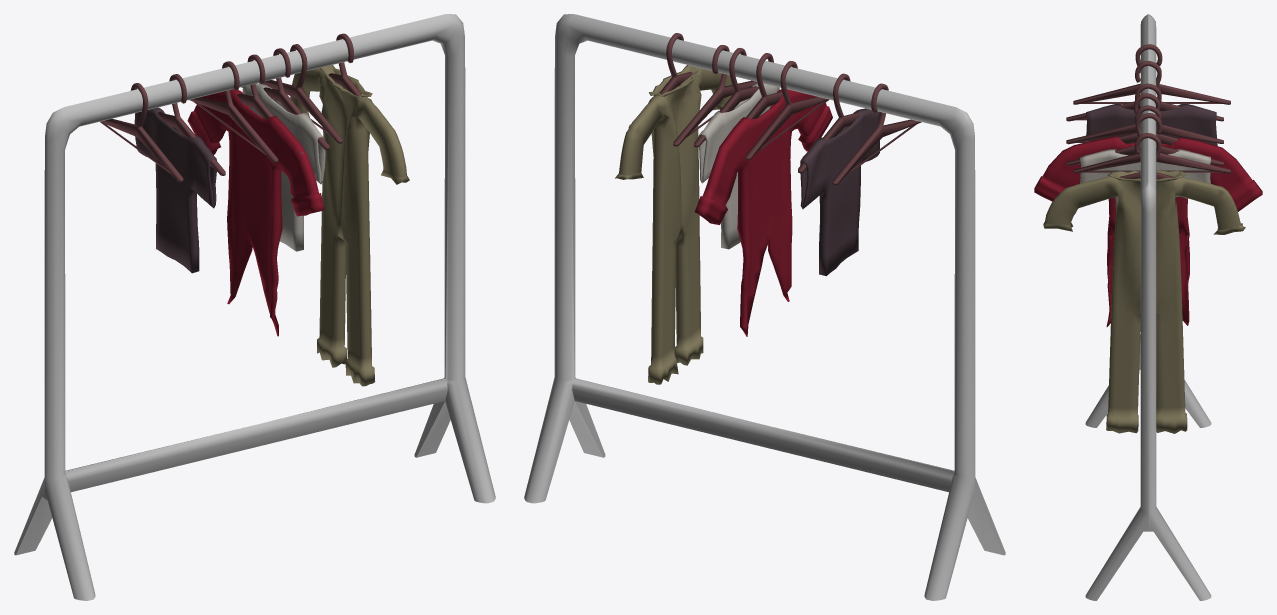
File: vaaterekki.fbx
3 views of the same model, side by side, from view 1: azimuth 30°, elevation 25°; view 2: azimuth 150°, elevation 25°; view 3: azimuth 270°, elevation 25° (orthographic). The views are drawn at different scales.
Visible parts, largest first — view 1: vaaterekki, haalari, takki, henkari.005, t-paita2, t-paita; view 2: vaaterekki, haalari, takki, henkari.005, t-paita2, t-paita; view 3: haalari, vaaterekki, henkari.005, takki, t-paita2, t-paita.
Part boxes in pixels (x1,y1,x2,y2): vaaterekki: [14, 14, 495, 600]; haalari: [290, 65, 409, 386]; takki: [187, 89, 324, 336]; henkari.005: [100, 33, 361, 182]; t-paita2: [134, 107, 216, 273]; t-paita: [242, 83, 325, 251]; vaaterekki: [524, 14, 1005, 600]; haalari: [615, 65, 732, 384]; takki: [694, 89, 832, 336]; henkari.005: [659, 33, 921, 185]; t-paita2: [800, 108, 880, 276]; t-paita: [698, 83, 779, 249]; haalari: [1043, 169, 1245, 433]; vaaterekki: [1085, 14, 1211, 600]; henkari.005: [1065, 44, 1230, 179]; takki: [1034, 136, 1262, 326]; t-paita2: [1086, 104, 1217, 145]; t-paita: [1080, 149, 1210, 211].
Size of the model in its own units: 230 by 246 by 122.
